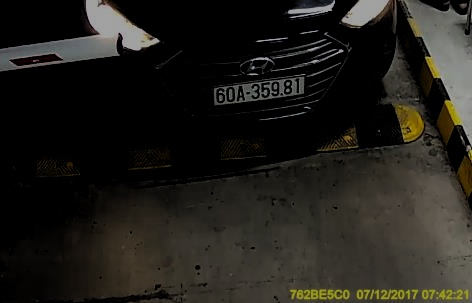plate: (215, 76, 309, 104)
